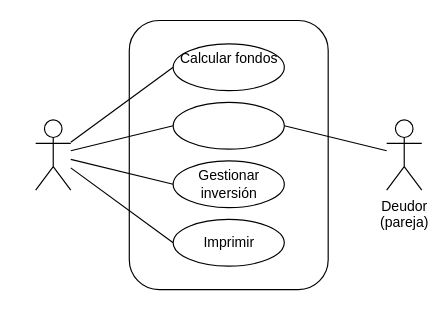
Some shapes in this 448 by 310 pixel diagram are drawn without their labels. The box of each missing label's shape, as (x1, y1, x2, y2) in pixels:
Empleado MSGF: (35, 119, 71, 190)
Gestionar hipoteca: (172, 101, 284, 149)
